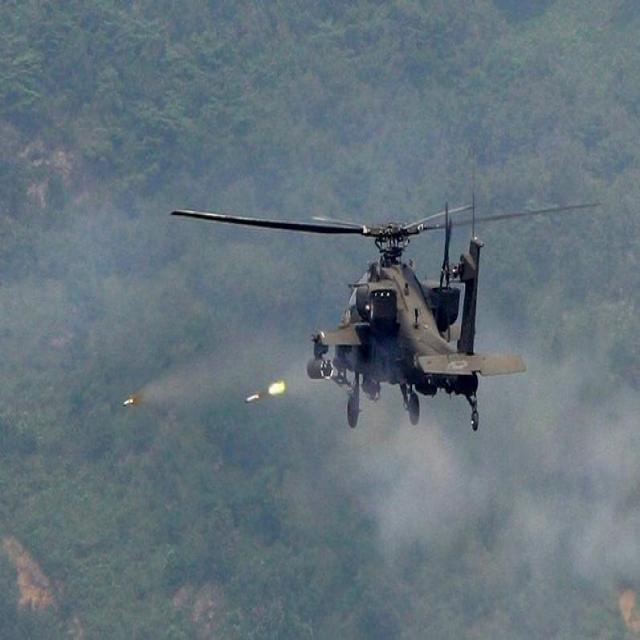MIL_HELO: (172, 176, 594, 438)
